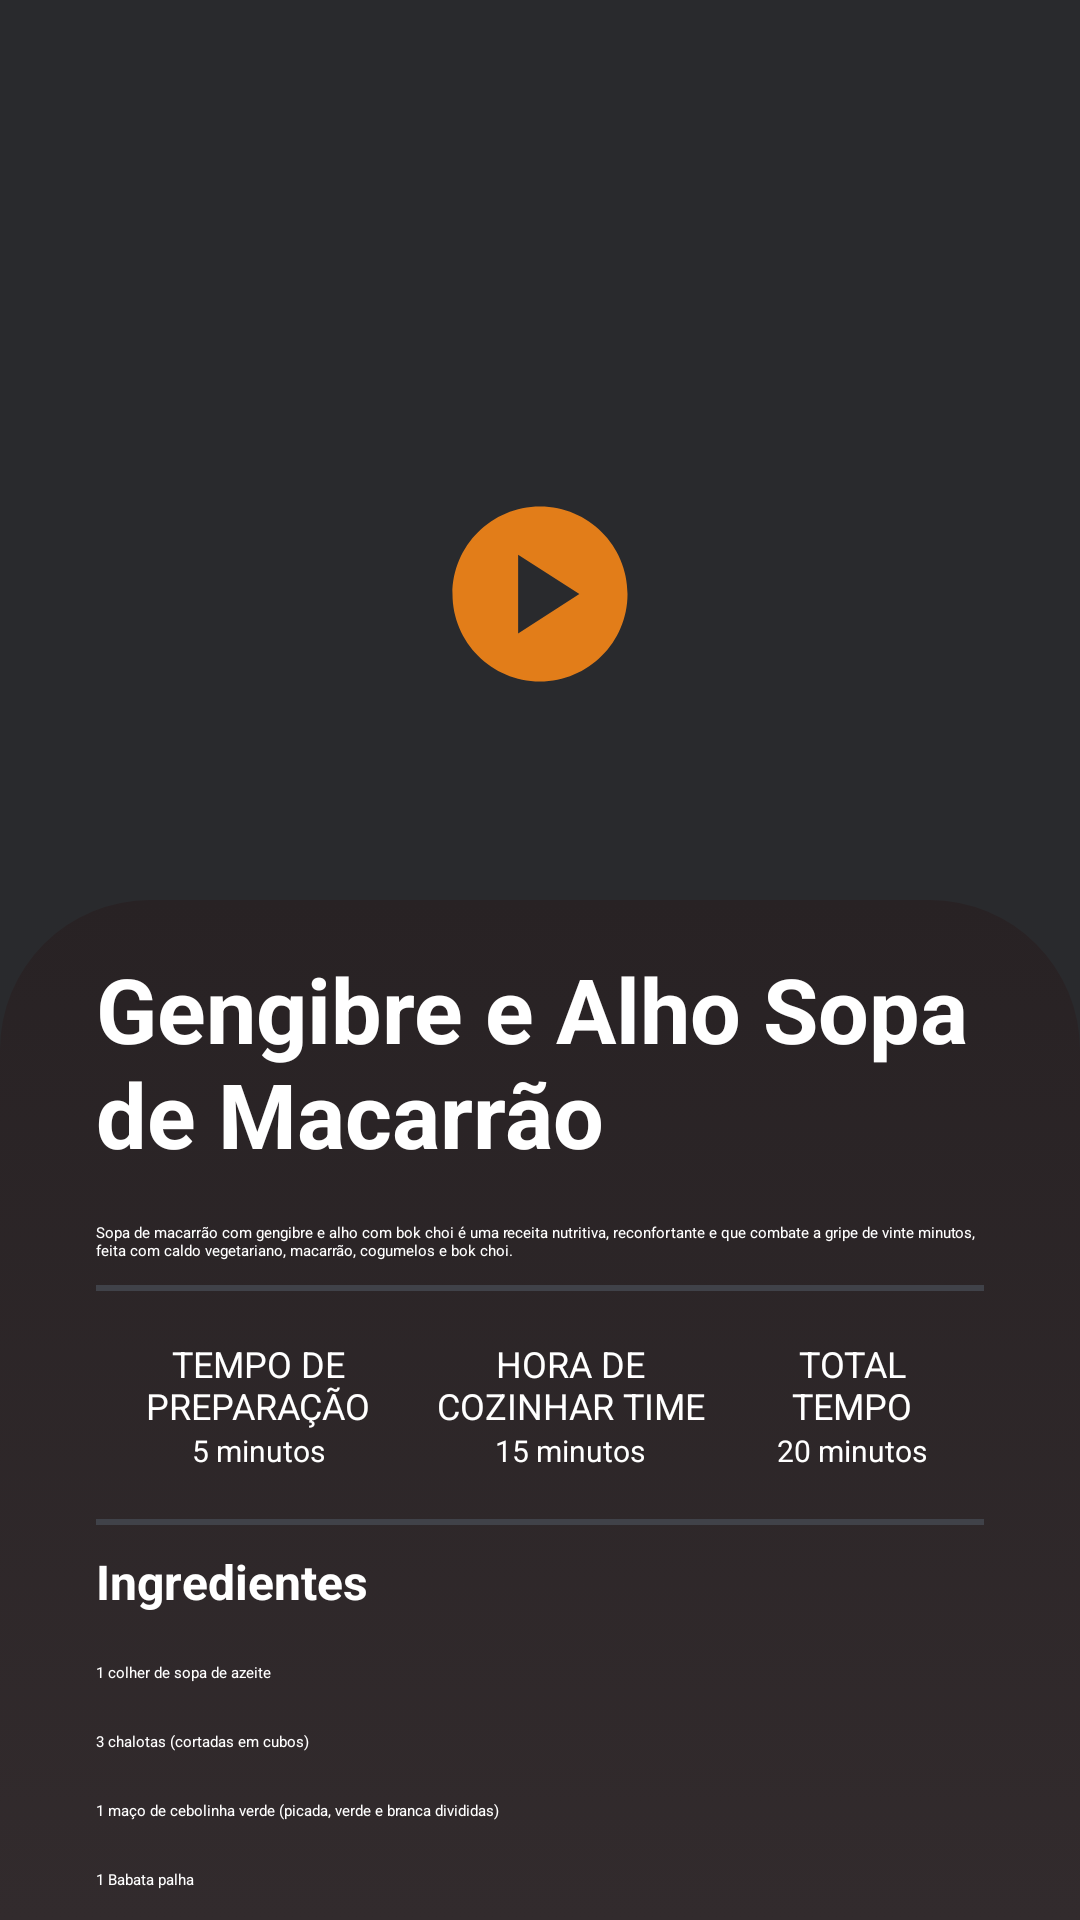

Icon click points for this 1080w x 1920h phone screenshot, format [x,y]:
play circle: [540,594]
